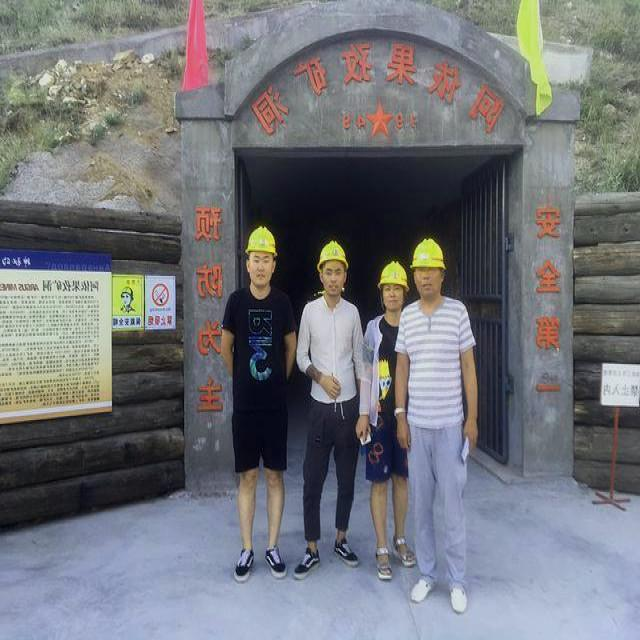face_nomask: (246, 251, 278, 285), (320, 263, 347, 297), (418, 264, 440, 301), (380, 284, 405, 315)
hand_noglove: (392, 404, 419, 457), (460, 413, 486, 458), (316, 364, 340, 400), (353, 410, 370, 446)
head_helmet: (237, 220, 279, 256), (375, 252, 409, 292), (410, 236, 447, 272), (315, 236, 353, 269)
person: (406, 238, 474, 595), (229, 218, 296, 570), (294, 236, 360, 576), (368, 260, 408, 573)
shoes: (408, 565, 438, 604), (292, 544, 324, 580), (327, 534, 360, 567), (232, 544, 256, 584), (262, 545, 289, 580), (444, 580, 468, 616)
